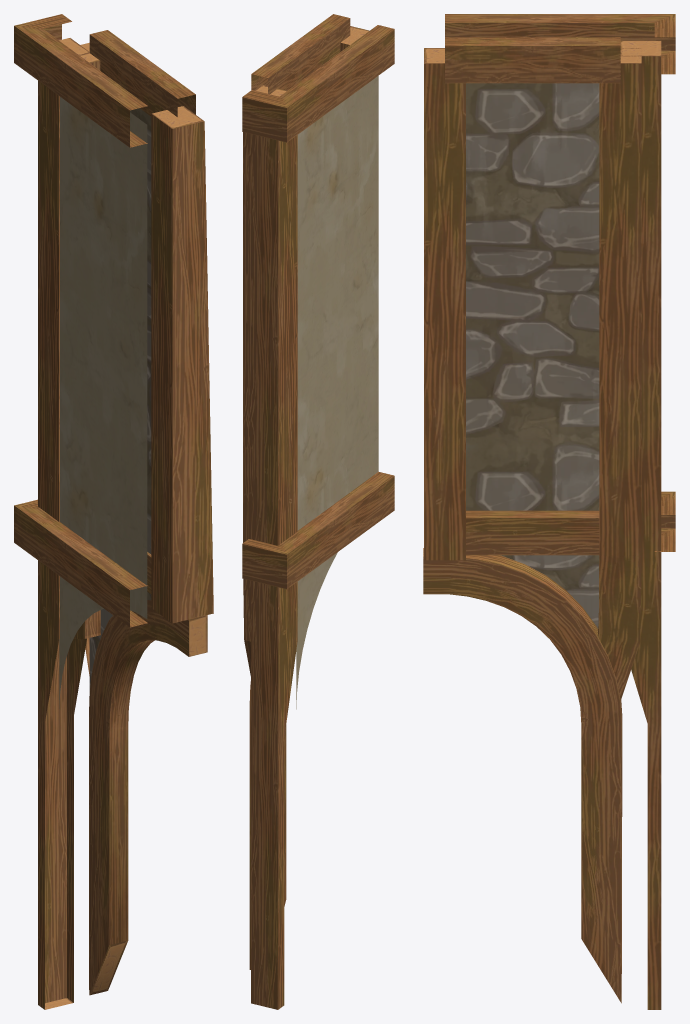
Rendered from Overhang_Side_UnevenBrick_Short_R.glb.
The picture shows the model from 3 angles, left to right: view 1: azimuth 30°, elevation 25°; view 2: azimuth 150°, elevation 25°; view 3: azimuth 270°, elevation 25°; orthographic projection. The views are drawn at different scales.
Visible parts, largest first — view 1: Overhang_Side_UnevenBrick_Short_R; view 2: Overhang_Side_UnevenBrick_Short_R; view 3: Overhang_Side_UnevenBrick_Short_R.
Part boxes in pixels (box(x1,y1,x2,y2)): Overhang_Side_UnevenBrick_Short_R: box(14, 14, 213, 1009); Overhang_Side_UnevenBrick_Short_R: box(242, 14, 394, 1009); Overhang_Side_UnevenBrick_Short_R: box(423, 14, 675, 1009).
Size of the model in its own units: 0.4794 by 6.12 by 1.44.
Materials: 3 (3 with a texture image).
